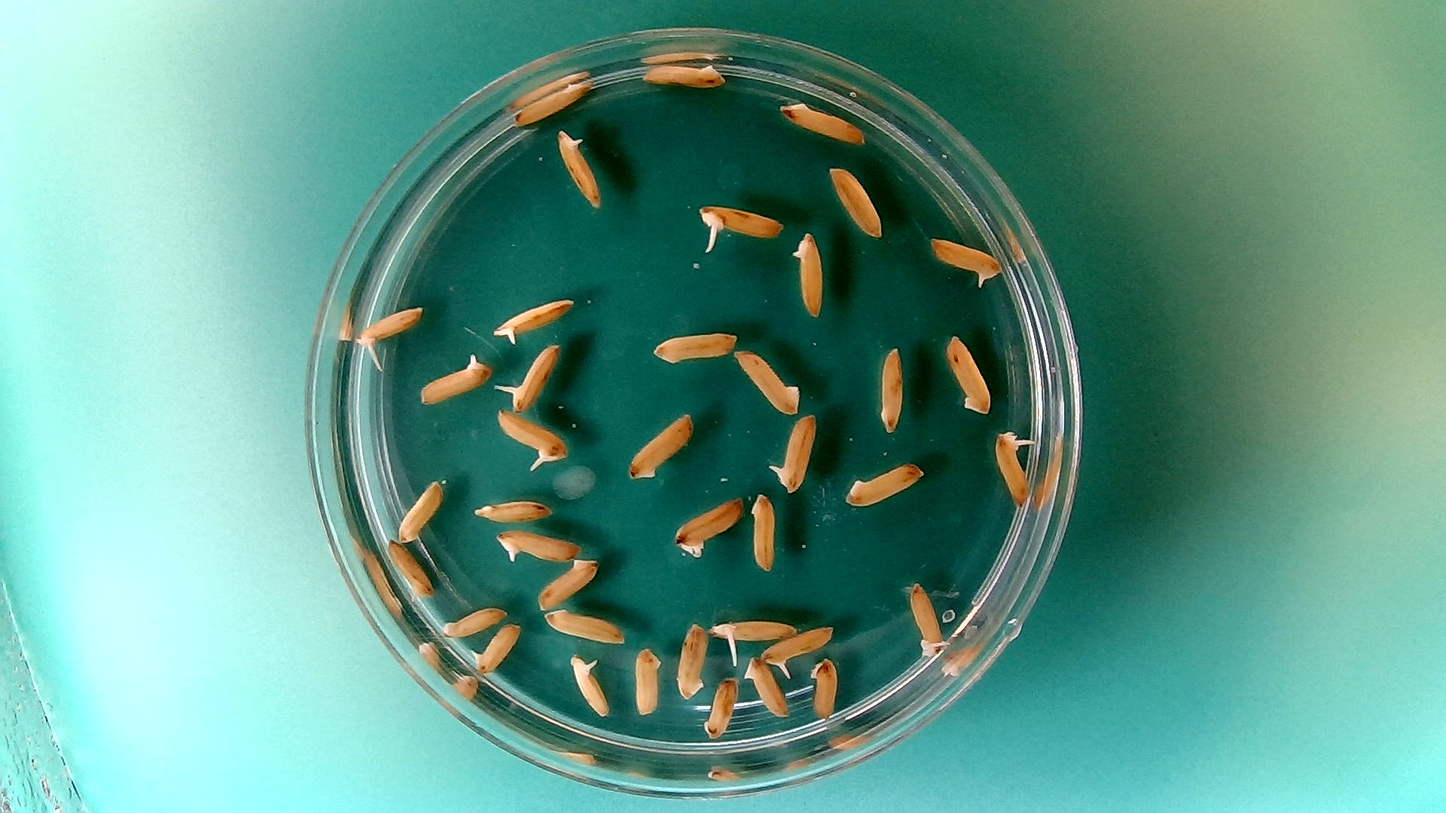no: (624, 408, 694, 483), (731, 345, 801, 416), (776, 95, 866, 144), (826, 162, 884, 237), (943, 331, 993, 417), (842, 458, 926, 508), (512, 79, 596, 126), (534, 556, 600, 611), (540, 605, 628, 645), (396, 476, 446, 544), (651, 327, 739, 365), (633, 59, 730, 93), (384, 537, 435, 601), (741, 653, 789, 719), (674, 617, 708, 702), (876, 343, 906, 435), (700, 672, 740, 741), (748, 489, 779, 576), (471, 494, 555, 525), (439, 602, 509, 639), (630, 642, 663, 717), (807, 653, 840, 720)
yes: (673, 492, 746, 579), (493, 408, 569, 470), (499, 340, 563, 413), (490, 294, 577, 346), (414, 351, 494, 406), (926, 233, 1004, 288), (767, 410, 818, 494), (353, 301, 427, 358), (694, 200, 785, 246), (759, 621, 836, 671), (491, 525, 584, 565), (904, 577, 948, 659), (706, 613, 801, 650), (555, 127, 597, 209), (993, 428, 1035, 507), (788, 229, 824, 318), (567, 650, 612, 720), (469, 619, 524, 675)
